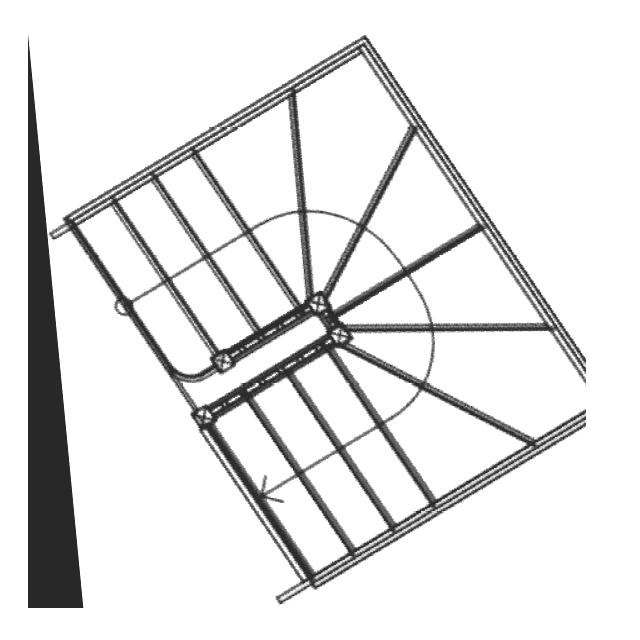stair: (28, 32, 586, 608)
